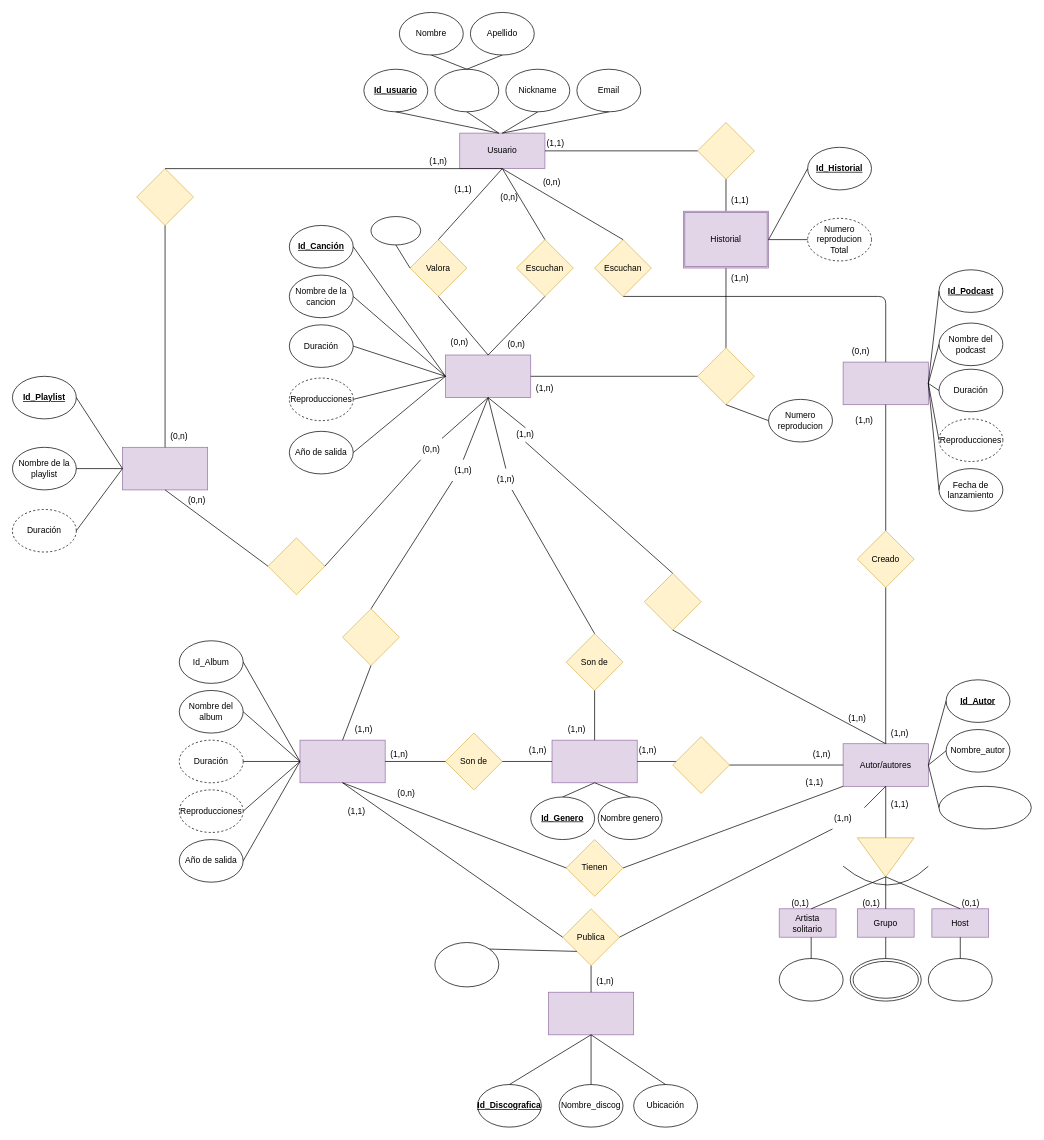
This 1044x1140 diagram has some shape labels left out. Each missing label, with the centre of its shape:
"Albums" goes at (342,761).
"Canciones" goes at (488,376).
"Creadas" goes at (672,601).
"Discografia/Programas" goes at (984,807).
"Discografica" goes at (591,1013).
"Fecha_Publicacion" goes at (466,964).
"Formada" goes at (296,566).
"Forman" goes at (370,637).
"Genero" goes at (594,761).
"Nombre completo" goes at (466,90).
"Nombre_artista" goes at (811,979).
"Nombre_grupo" goes at (885,979).
"Nombre_host" goes at (960,979).
"Playlists" goes at (165,468).
"Podcast" goes at (885,383).
"Reproduce" goes at (725,376).
"Siguen/crean" goes at (164,196).
"Son" goes at (885,857).
"Son del" goes at (701,764).
"Tiene" goes at (725,150).
"Valoracion numerica" goes at (395,230).
